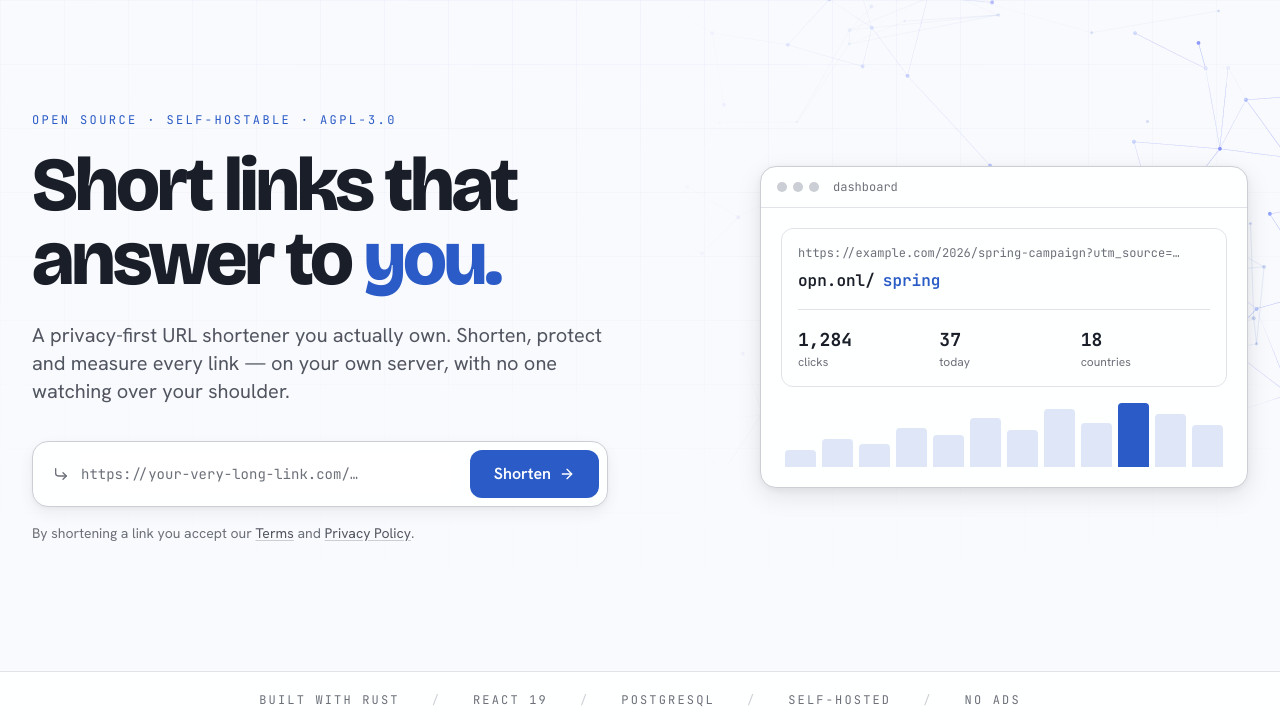
Scenario: Home Page › keeps the pasted URL and says why when the stored session is rejected
Type "https://example.com/test" into the field with placeholder "https://your-very-long-link.com/…".
click(265, 474); type("https://example.com/test")  # box [81,454,450,494]
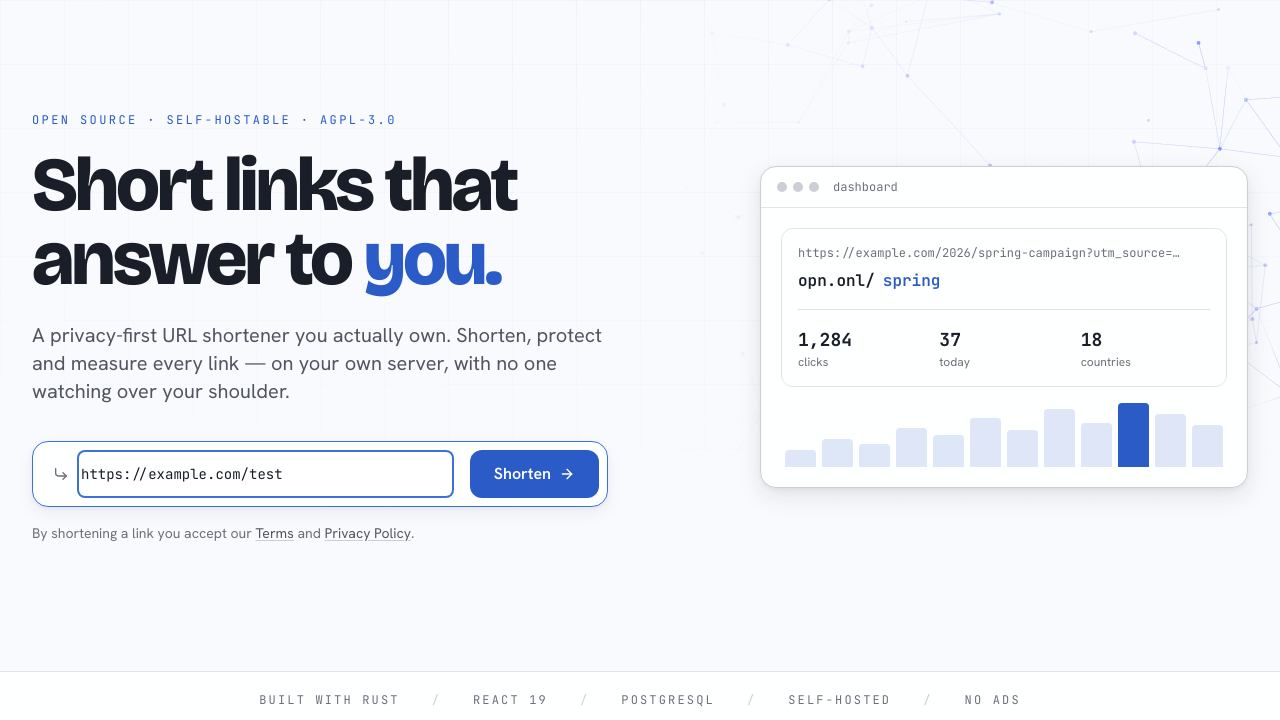
Click the button "Shorten".
click(534, 474)  # box [470,450,599,498]
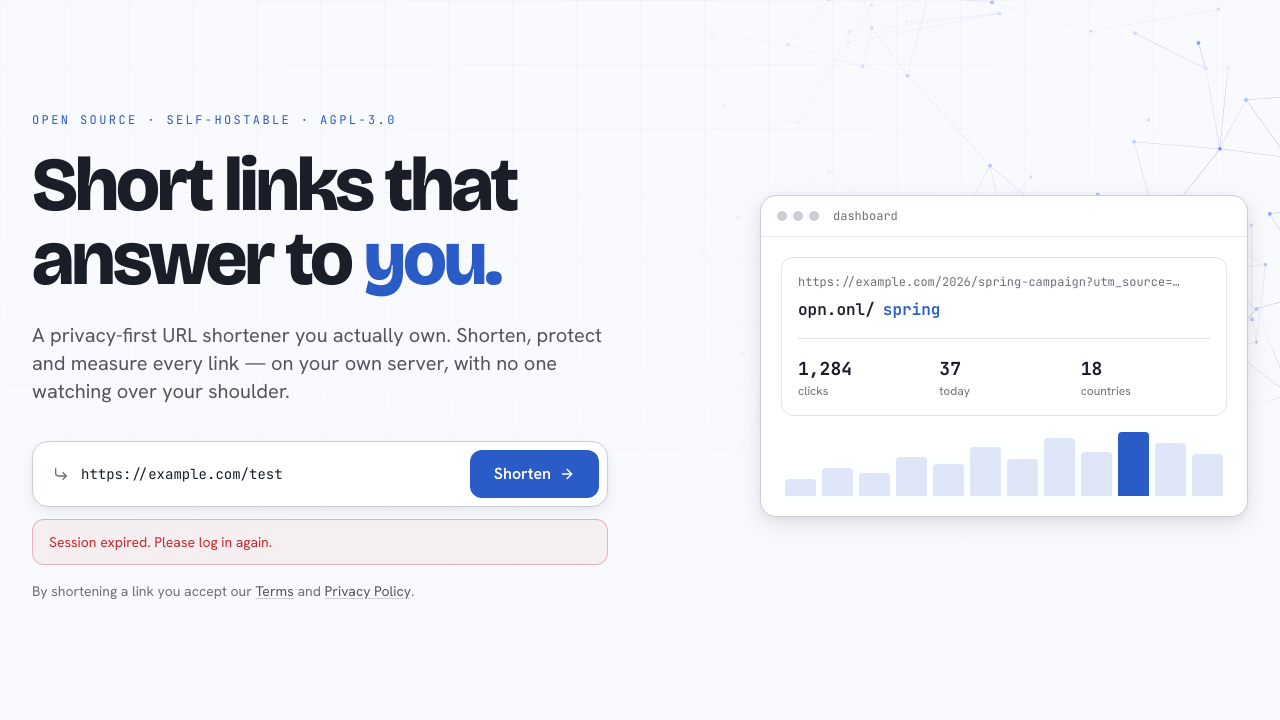
Now the text "Session expired. Please log in again." is shown, box [32,519,608,565]
